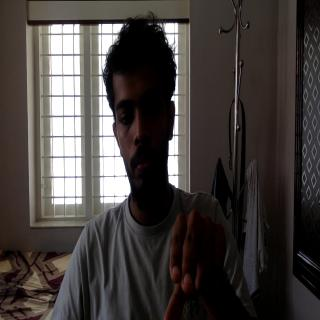No: (146, 178, 240, 318)
